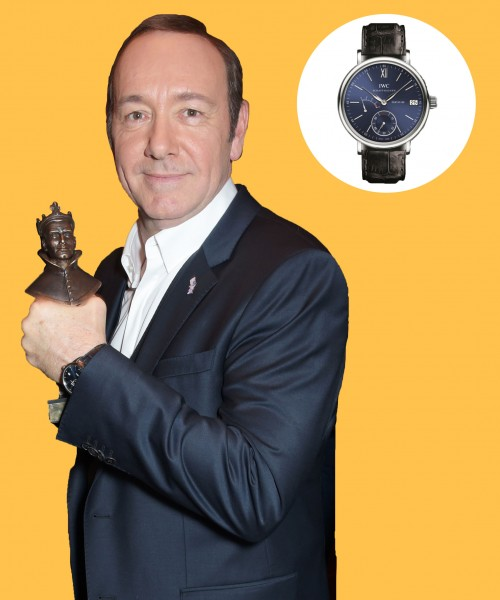clock: (343, 61, 426, 144)
